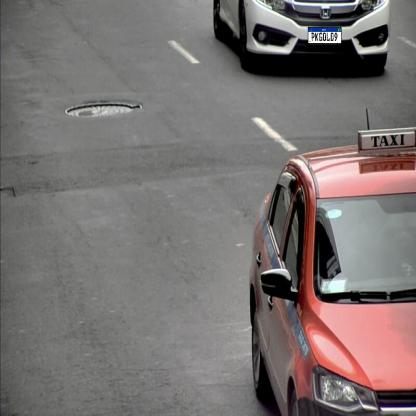PlacaM: (308, 27, 341, 44)
